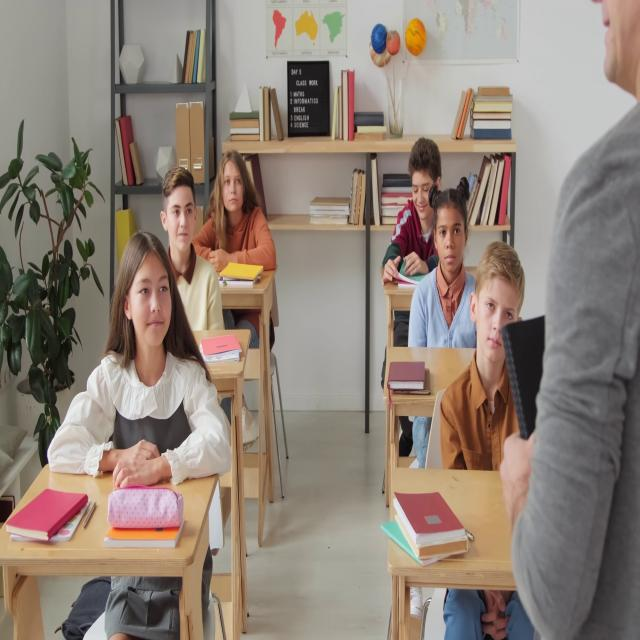listening: (47, 241, 237, 640), (200, 150, 282, 438), (437, 248, 527, 474), (407, 183, 477, 353), (164, 164, 228, 331), (379, 136, 440, 288)
